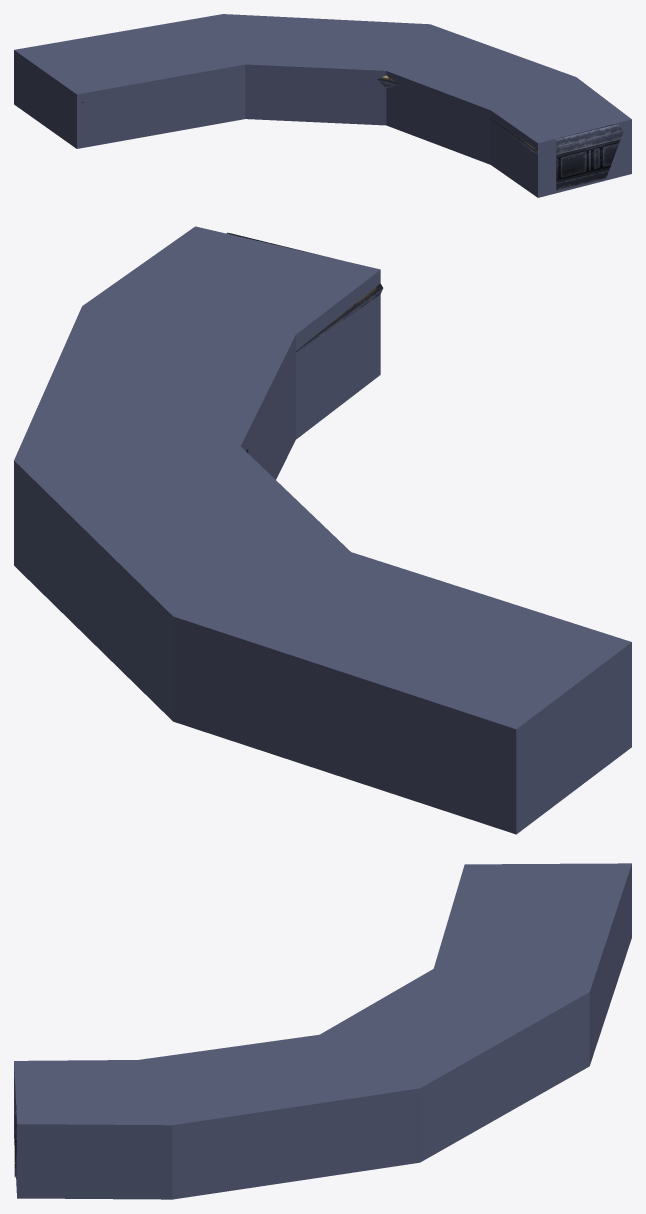
File: WalkwayCurveLeft.fbx
The picture shows the model from 3 angles, top to bottom: view 1: azimuth 30°, elevation 25°; view 2: azimuth 150°, elevation 25°; view 3: azimuth 270°, elevation 25°; orthographic projection. The views are drawn at different scales.
Visible parts, largest first — view 1: WalkwayCurveLeftCOLLMESH, WalkWayCurveLeft; view 2: WalkwayCurveLeftCOLLMESH; view 3: WalkwayCurveLeftCOLLMESH.
Boxes of the visible parts, x1=… form: WalkwayCurveLeftCOLLMESH: x1=14, y1=14, x2=631, y2=197; WalkWayCurveLeft: x1=82, y1=75, x2=623, y2=190; WalkwayCurveLeftCOLLMESH: x1=14, y1=226, x2=631, y2=834; WalkwayCurveLeftCOLLMESH: x1=14, y1=863, x2=631, y2=1199.
Size of the model in its own units: 901 by 119 by 899.
